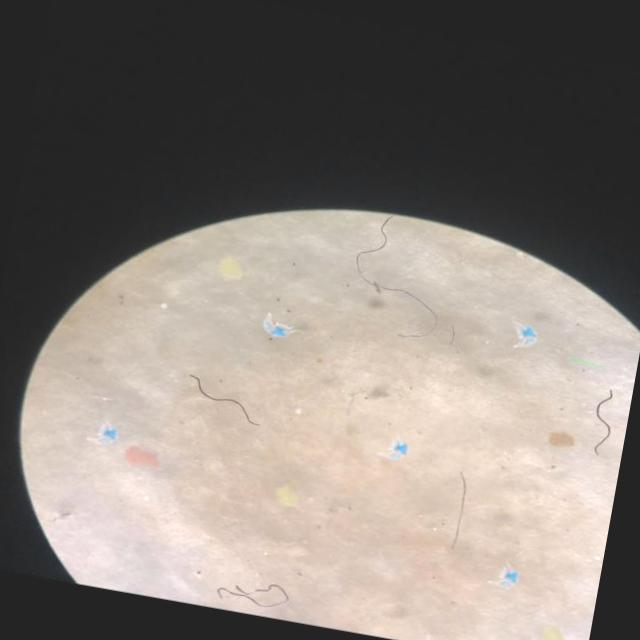fiber: (355, 215, 435, 320), (191, 375, 254, 424), (216, 583, 287, 607), (593, 388, 613, 453), (451, 472, 467, 545)
film: (263, 313, 289, 336), (517, 324, 536, 344), (97, 425, 117, 444), (389, 441, 406, 457), (501, 568, 518, 584)
fragment: (125, 445, 157, 464), (218, 256, 242, 279), (275, 485, 296, 505), (548, 431, 574, 447), (542, 625, 564, 640)
pellet: (161, 302, 167, 308), (142, 495, 148, 500), (295, 408, 299, 413)
